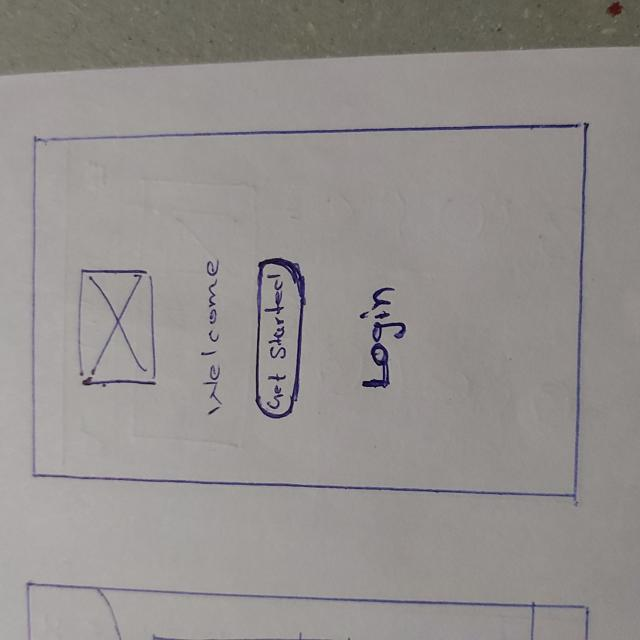Button: (250, 254, 307, 423)
Image: (81, 269, 158, 386)
MainLayout: (28, 122, 592, 505)
TextView: (363, 284, 404, 401), (198, 254, 227, 412)
